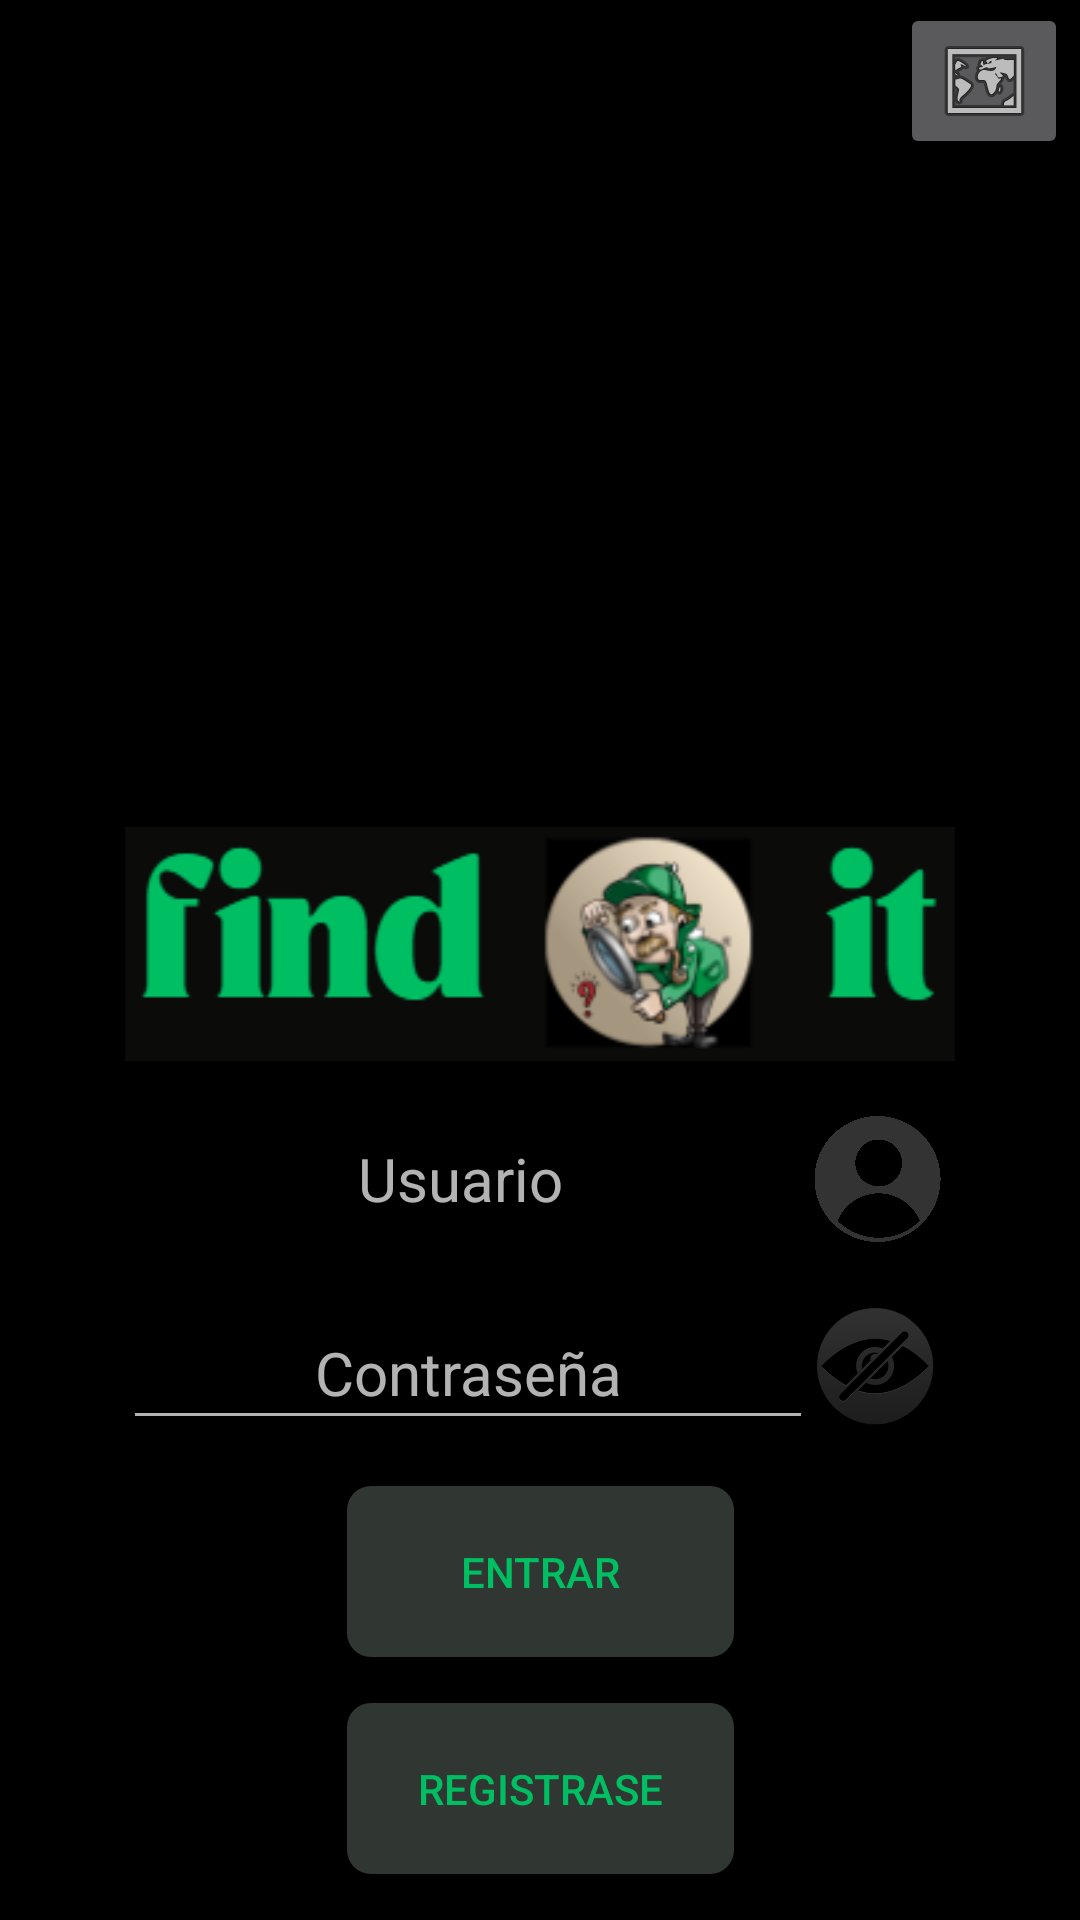

Icons on this 1080x1920 Android screen, each with the point to tap as (x=x, y=y):
mapmode: (x=984, y=81)
ojo tachado: (x=875, y=1366)
